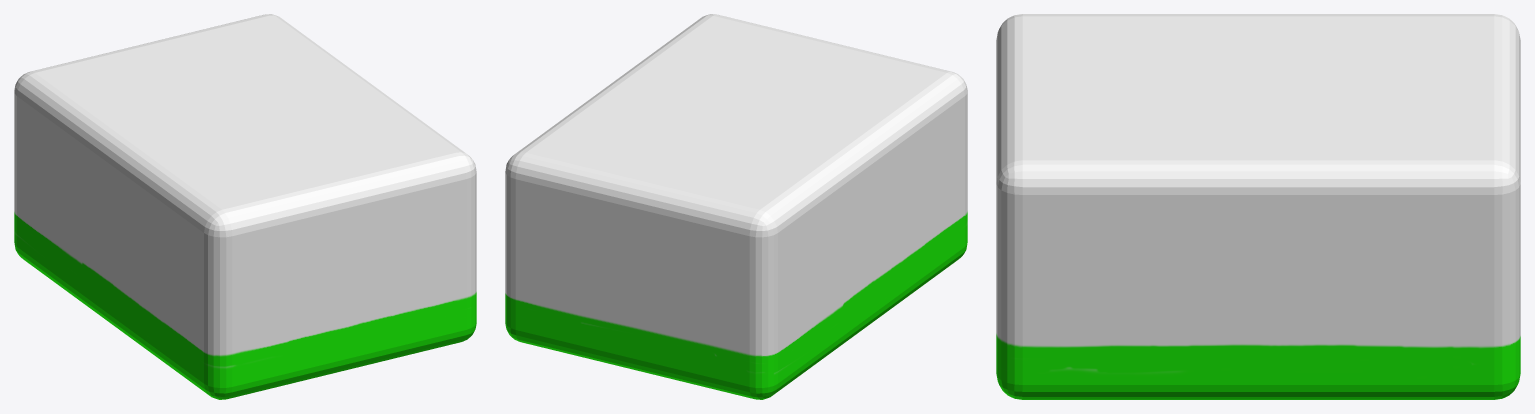
The model's file is basetile.fbx.
3 views of the same model, side by side, from view 1: azimuth 30°, elevation 25°; view 2: azimuth 150°, elevation 25°; view 3: azimuth 270°, elevation 25° (orthographic). The views are drawn at different scales.
Parts seen in each view (by area): view 1: Cube; view 2: Cube; view 3: Cube.
Part boxes in pixels (x1,y1,x2,y2): Cube: [14, 14, 476, 399]; Cube: [505, 14, 967, 399]; Cube: [996, 14, 1520, 399].
Size of the model in its own units: 300 by 200 by 400.
